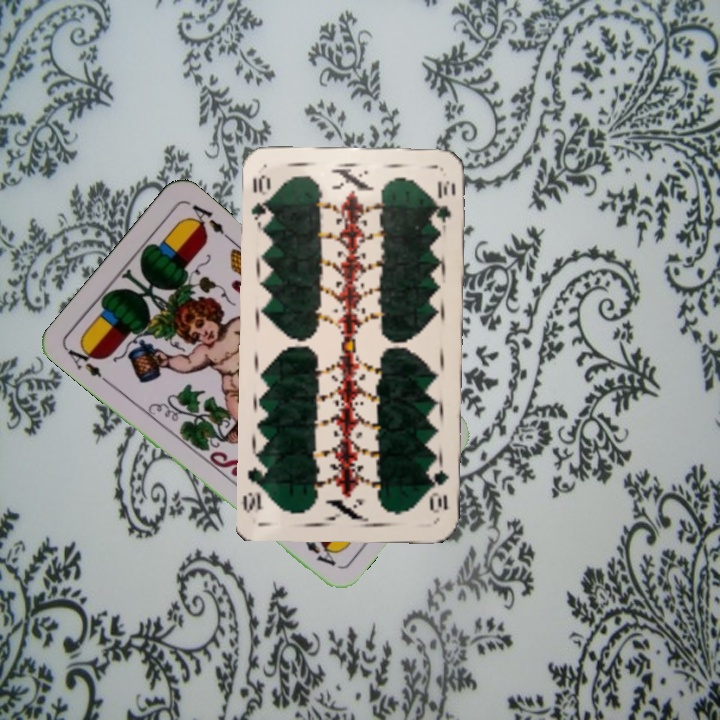EA: (62, 339, 112, 386)
G10: (247, 171, 273, 227), (427, 466, 451, 516)
